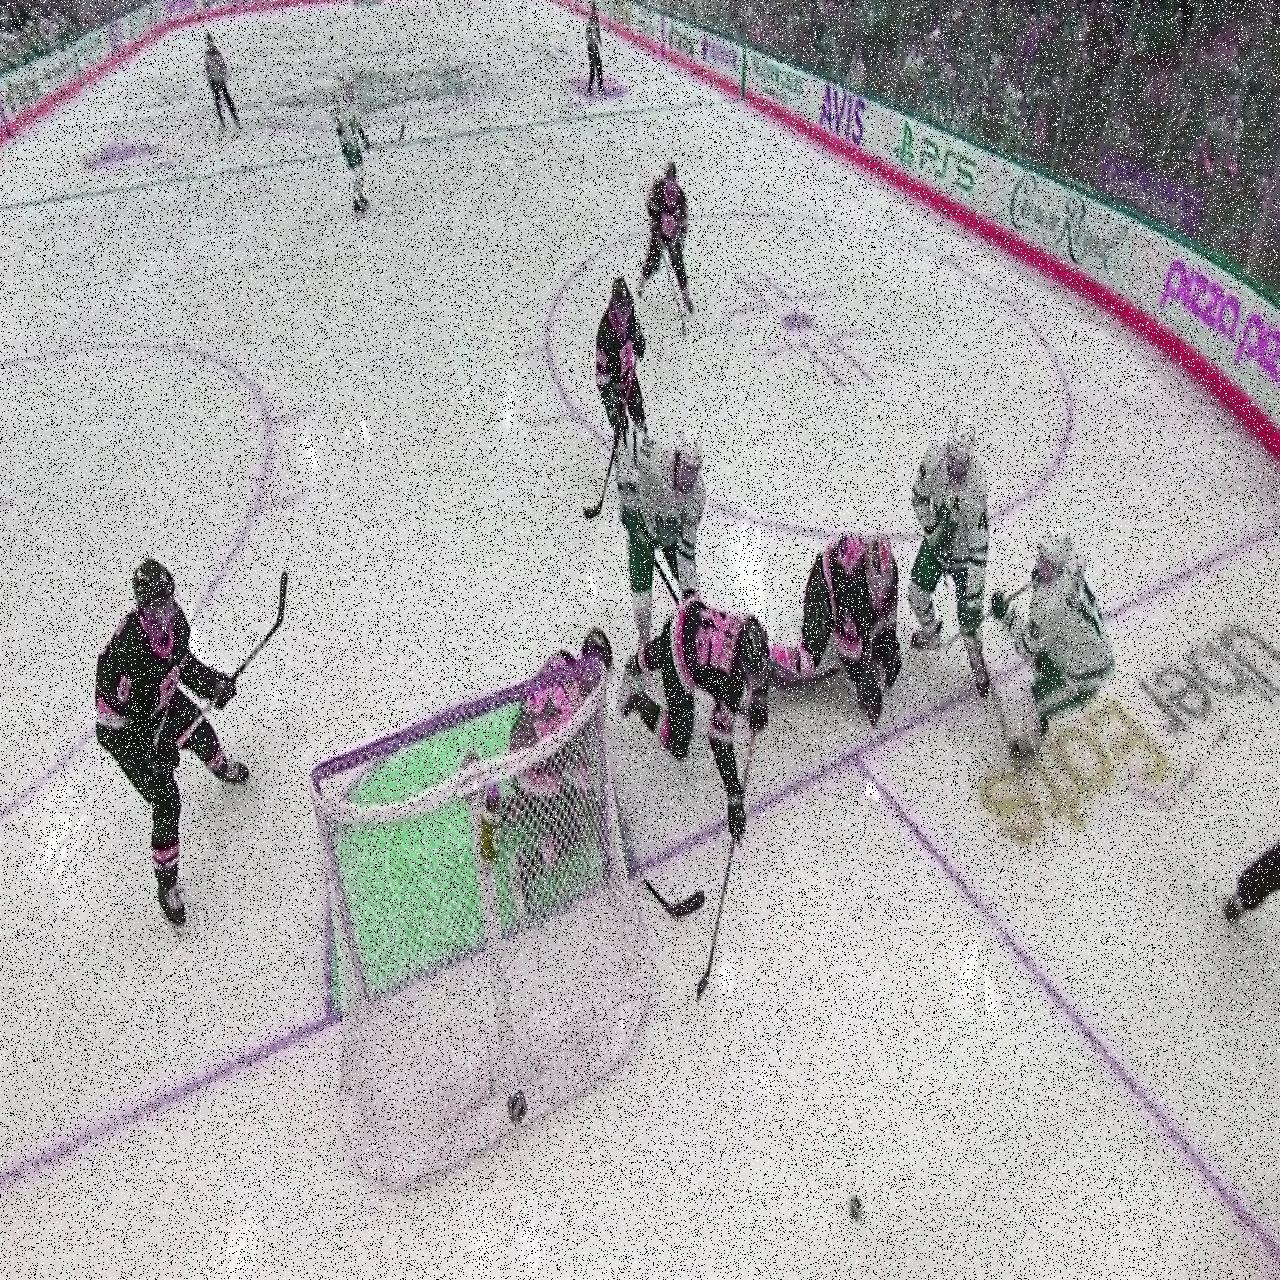Ad: (976, 570, 1278, 866), (1164, 244, 1279, 478), (1012, 164, 1136, 308), (896, 114, 982, 209), (750, 49, 809, 123), (821, 79, 870, 164), (665, 13, 701, 79), (702, 30, 740, 73)
